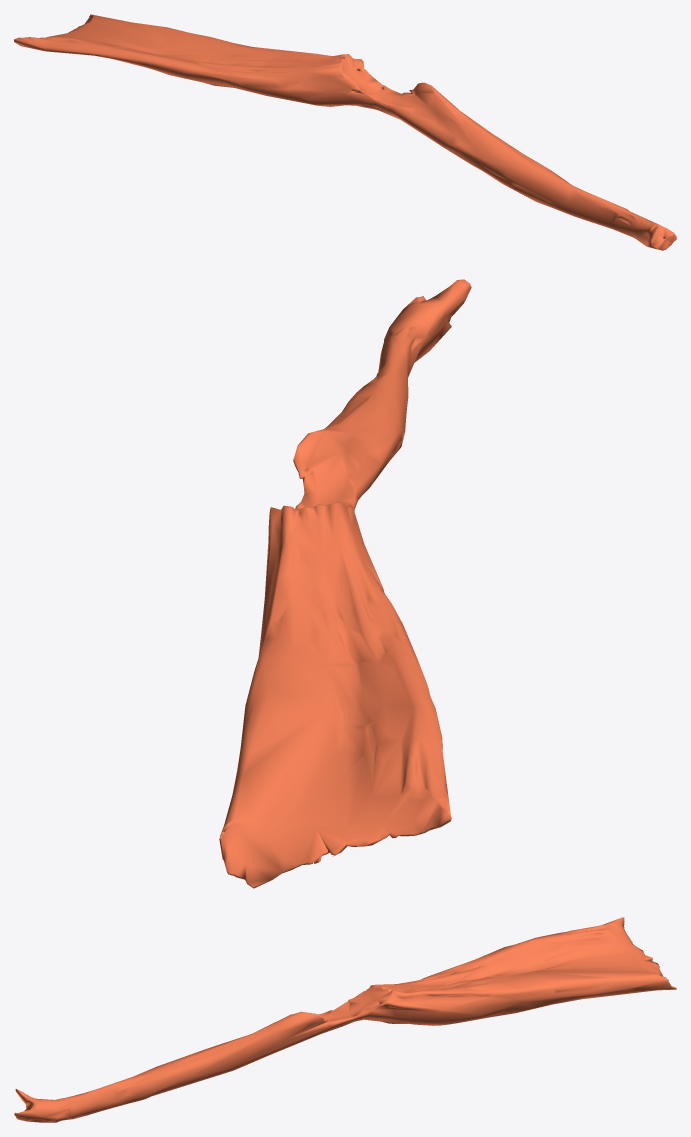
Rendered from Abductor_digiti_minimi_foot_left.glb.
3 views of the same model, one above another, from view 1: azimuth 30°, elevation 25°; view 2: azimuth 150°, elevation 25°; view 3: azimuth 270°, elevation 25° (orthographic). The views are drawn at different scales.
Visible parts, largest first — view 1: Abductor_digiti_minimi_of_foot.l_Generated_Mesh_From_X3D.101; view 2: Abductor_digiti_minimi_of_foot.l_Generated_Mesh_From_X3D.101; view 3: Abductor_digiti_minimi_of_foot.l_Generated_Mesh_From_X3D.101.
Part boxes in pixels (x1=…): Abductor_digiti_minimi_of_foot.l_Generated_Mesh_From_X3D.101: x1=14, y1=14, x2=676, y2=250; Abductor_digiti_minimi_of_foot.l_Generated_Mesh_From_X3D.101: x1=219, y1=279, x2=471, y2=888; Abductor_digiti_minimi_of_foot.l_Generated_Mesh_From_X3D.101: x1=14, y1=917, x2=676, y2=1122.
Size of the model in its own units: 0.0709 by 0.0166 by 0.1275.
